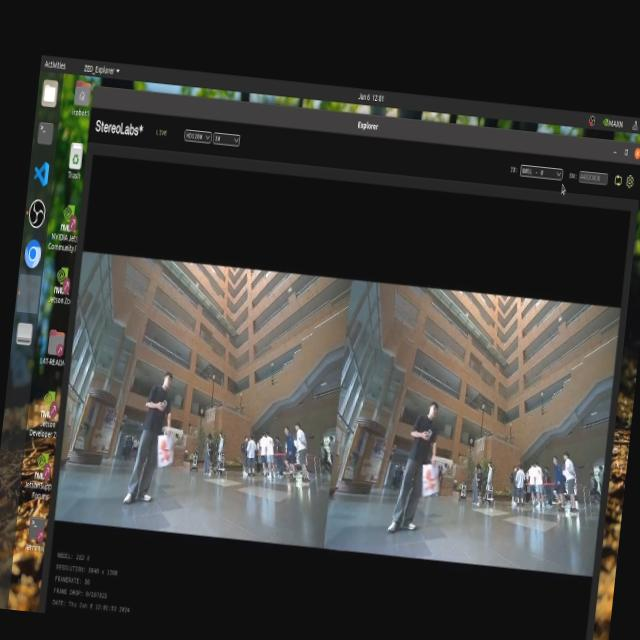red: (422, 466, 444, 497), (158, 436, 174, 464)
